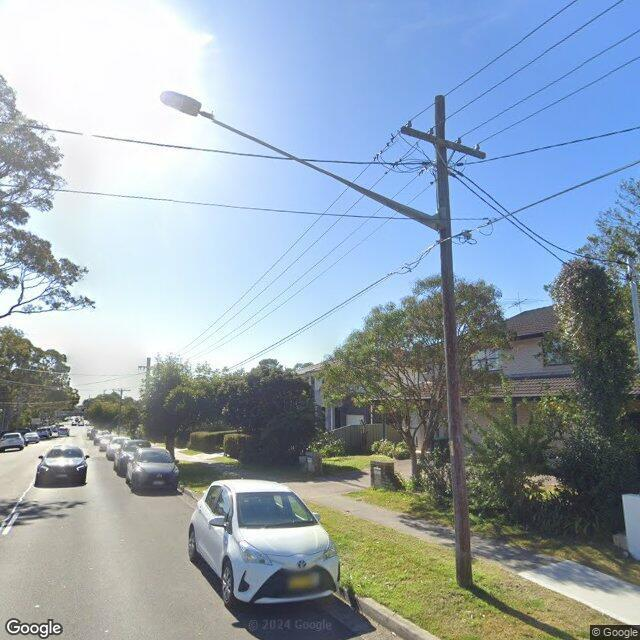crossarm: (399, 126, 487, 160), (138, 366, 154, 370), (113, 389, 131, 392)
streetlight: (158, 88, 442, 232)
timber-pole: (435, 93, 471, 588), (146, 358, 151, 387), (119, 388, 122, 435)
